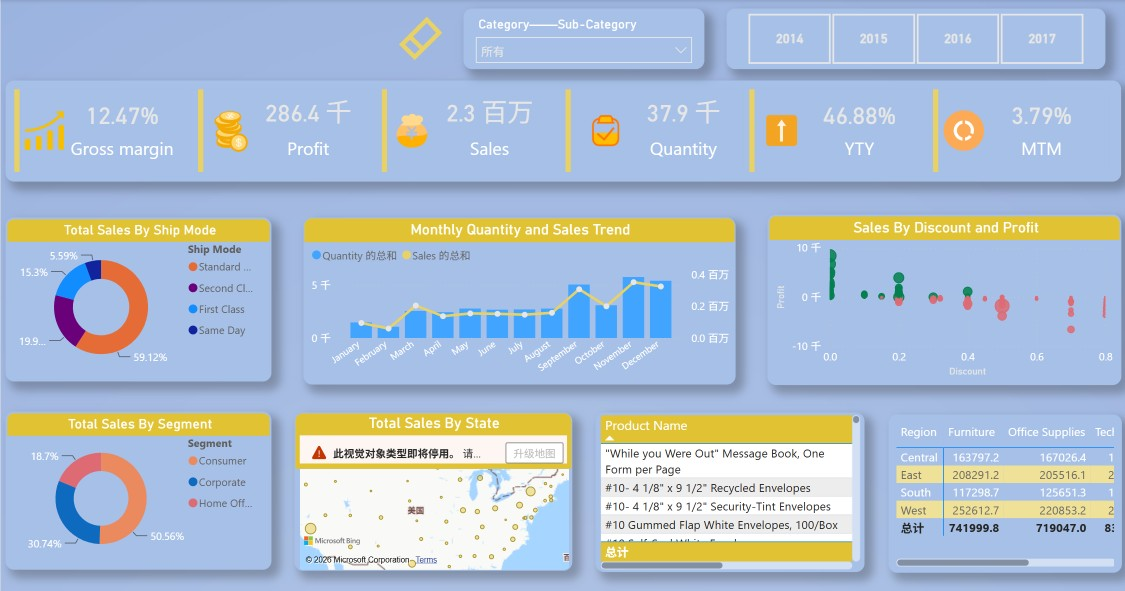

The dashboard page shown, as its layout file describes it:
{"tool":"powerbi","page":{"name":"第 1 页","canvas":[1280,720],"ordinal":0},"visuals":[{"type":"slicer","fields":{"Values":["日期表.Date.变体.Date Hierarchy.Year"]},"box":[825.8,9.9,430.8,69.1],"z":0},{"type":"cardVisual","fields":{"Data":["度量表.毛利率","Sum(Superstore_Orders_Data.Profit)","Sum(Superstore_Orders_Data.Sales)","Sum(Superstore_Orders_Data.Quantity)","度量表.同比","度量表.环比"]},"box":[6.2,92.6,1268.9,114.8],"z":1000},{"type":"donutChart","title":"Total Sales By Segment","fields":{"Category":["Superstore_Orders_Data.Segment"],"Y":["Sum(Superstore_Orders_Data.Sales)"]},"box":[6.2,469,302.4,180.2],"z":2000},{"type":"donutChart","title":"Total Sales By Ship Mode","fields":{"Category":["Superstore_Orders_Data.Ship Mode"],"Y":["Sum(Superstore_Orders_Data.Sales)"]},"box":[6.2,248.1,302.4,186.4],"z":3000},{"type":"lineClusteredColumnComboChart","title":"Monthly Quantity and Sales Trend ","fields":{"Category":["日期表.Date.变体.Date Hierarchy.Quarter","日期表.Date.变体.Date Hierarchy.Month"],"Y":["Sum(Superstore_Orders_Data.Quantity)"],"Y2":["Sum(Superstore_Orders_Data.Sales)"]},"box":[345,248.1,491.3,190.1],"z":4000},{"type":"actionButton","box":[449.3,16,58.6,57.4],"z":5000},{"type":"map","title":"Total Sales By State","fields":{"Category":["Superstore_Orders_Data.State"],"Size":["Sum(Superstore_Orders_Data.Sales)"]},"box":[334.9,470.3,316,180.2],"z":6000},{"type":"pivotTable","fields":{"Columns":["Superstore_Orders_Data.Category"],"Rows":["Superstore_Orders_Data.Region"],"Values":["Sum(Superstore_Orders_Data.Sales)"]},"box":[1009.7,471.5,265.4,180.2],"z":7000},{"type":"scatterChart","title":"Sales By Discount and Profit","fields":{"Size":["Sum(Superstore_Orders_Data.Sales)"],"X":["Superstore_Orders_Data.Discount"],"Y":["Superstore_Orders_Data.Profit"]},"box":[872.7,244.4,402.4,193.8],"z":8000},{"type":"tableEx","fields":{"Values":["Superstore_Orders_Data.Product Name","Sum(Superstore_Orders_Data.Sales)","Sum(Superstore_Orders_Data.Discount)","Sum(Superstore_Orders_Data.Profit)"]},"box":[677.2,470.3,306.1,181.4],"z":9000},{"type":"slicer","fields":{"Values":["Superstore_Orders_Data.Category","Superstore_Orders_Data.Sub-Category"]},"box":[527.1,9.9,274,69.1],"z":10000}]}

Visuals, with their boxes on the page's 1280x720 design canvas (x1, y1, x2, y2). These are canvas units, not pixel positions in the 1125x591 screenshot, which may show the page scaled, cropped or inside an application window:
slicer - 日期表.Date.变体.Date Hierarchy.Year: locate(826, 10, 1257, 79)
cardVisual - 度量表.毛利率 x Sum(Superstore_Orders_Data.Profit): locate(6, 93, 1275, 207)
"Total Sales By Segment" donutChart: locate(6, 469, 309, 649)
"Total Sales By Ship Mode" donutChart: locate(6, 248, 309, 434)
"Monthly Quantity and Sales Trend " lineClusteredColumnComboChart: locate(345, 248, 836, 438)
actionButton: locate(449, 16, 508, 73)
"Total Sales By State" map: locate(335, 470, 651, 650)
pivotTable - Superstore_Orders_Data.Category x Superstore_Orders_Data.Region: locate(1010, 472, 1275, 652)
"Sales By Discount and Profit" scatterChart: locate(873, 244, 1275, 438)
tableEx - Superstore_Orders_Data.Product Name x Sum(Superstore_Orders_Data.Sales): locate(677, 470, 983, 652)
slicer - Superstore_Orders_Data.Category x Superstore_Orders_Data.Sub-Category: locate(527, 10, 801, 79)
